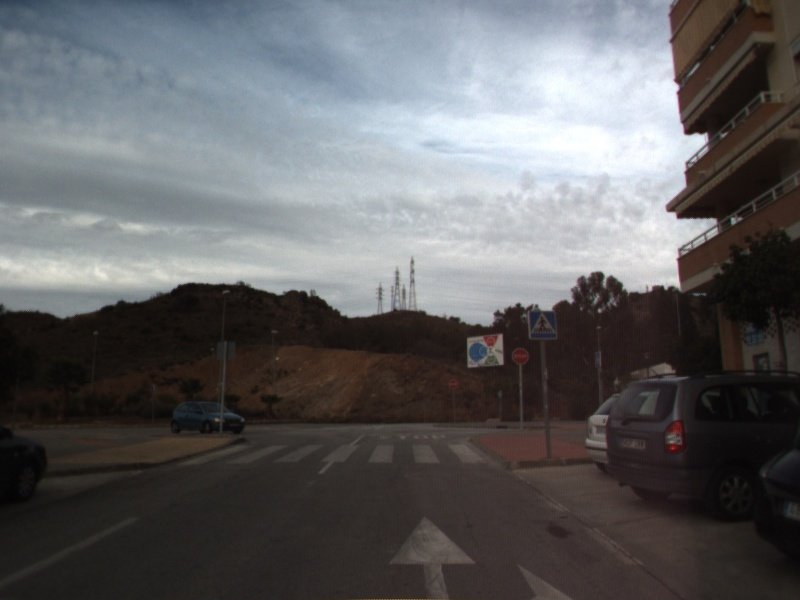STRAIGHT_RIGHT: (385, 511, 578, 600)
